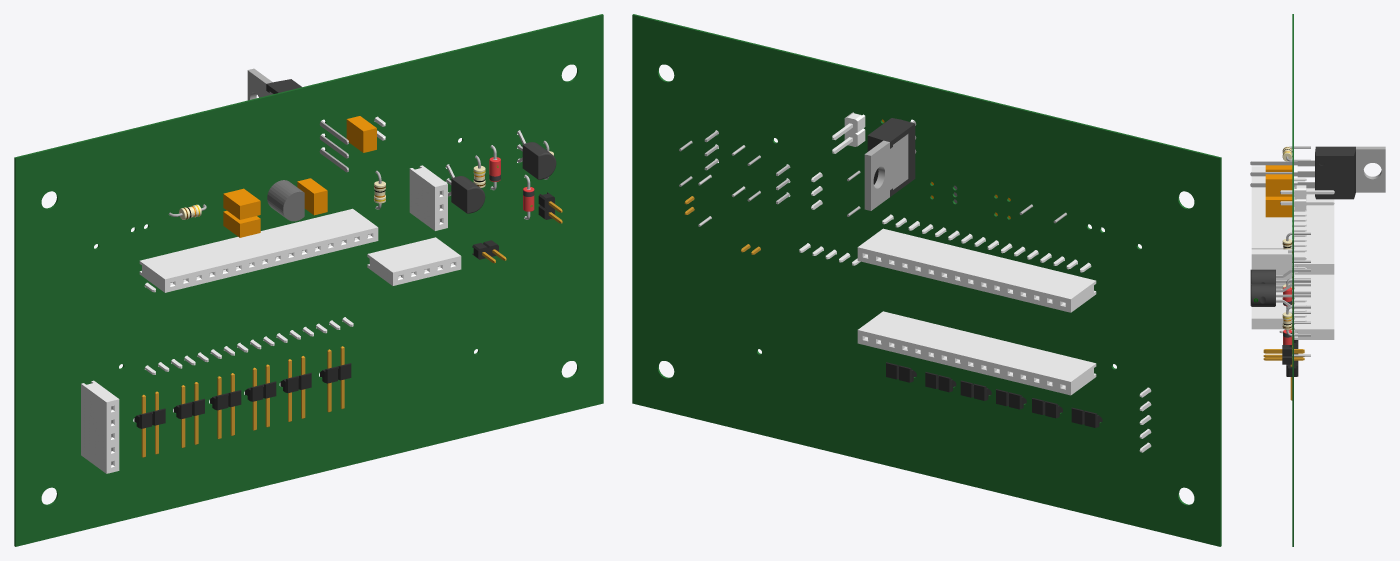
Rendered from IR_remote.glb.
3 views of the same model, side by side, from view 1: azimuth 30°, elevation 25°; view 2: azimuth 150°, elevation 25°; view 3: azimuth 270°, elevation 25° (orthographic). The views are drawn at different scales.
Parts seen in each view (by area): view 1: empty_2, empty_143, empty_35, empty_109, empty_103, empty_87, empty_10, empty_43, empty_79, empty_162, empty_70; view 2: empty_2, empty_160, empty_126, empty_78, empty_74; view 3: empty_126, empty_160, empty_74, empty_143, empty_78, empty_2, empty_103, empty_109, empty_10, empty_79, empty_70, empty_43 (+8 smaller).
Part boxes in pixels (left/top/right/bottom): empty_2: left=14, top=14, right=603, bottom=546; empty_143: left=139, top=208, right=378, bottom=292; empty_35: left=81, top=380, right=119, bottom=473; empty_109: left=367, top=237, right=461, bottom=285; empty_103: left=409, top=165, right=447, bottom=230; empty_87: left=267, top=180, right=304, bottom=221; empty_10: left=522, top=142, right=556, bottom=179; empty_43: left=451, top=176, right=485, bottom=213; empty_79: left=346, top=116, right=376, bottom=152; empty_162: left=223, top=188, right=260, bottom=219; empty_70: left=297, top=178, right=327, bottom=215; empty_2: left=632, top=14, right=1221, bottom=546; empty_160: left=857, top=311, right=1096, bottom=395; empty_126: left=857, top=228, right=1096, bottom=312; empty_78: left=864, top=134, right=908, bottom=210; empty_74: left=867, top=118, right=915, bottom=196; empty_126: left=1294, top=182, right=1334, bottom=274; empty_160: left=1294, top=274, right=1334, bottom=339; empty_74: left=1315, top=146, right=1355, bottom=199; empty_143: left=1251, top=166, right=1291, bottom=249; empty_78: left=1356, top=146, right=1385, bottom=192; empty_2: left=1292, top=14, right=1293, bottom=546; empty_103: left=1251, top=249, right=1291, bottom=288; empty_109: left=1251, top=292, right=1291, bottom=329; empty_10: left=1250, top=283, right=1275, bottom=306; empty_79: left=1265, top=174, right=1292, bottom=196; empty_70: left=1265, top=196, right=1292, bottom=217; empty_43: left=1250, top=269, right=1275, bottom=283.
Size of the model in its own units: 113 by 71.63 by 28.65.
